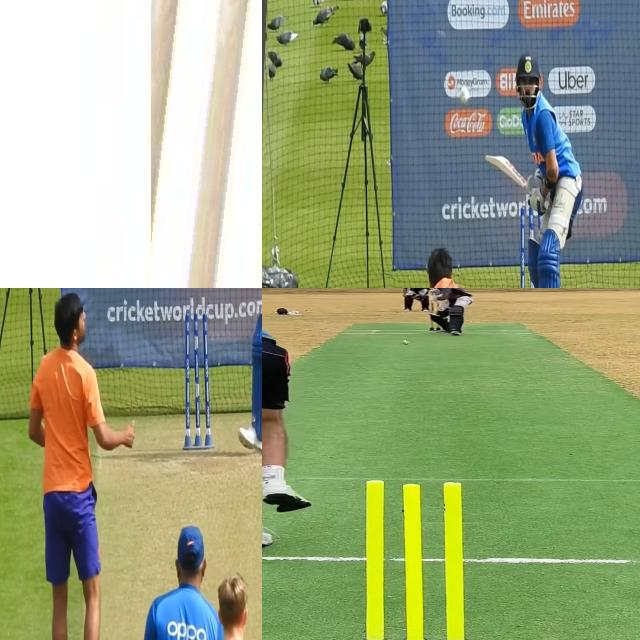Cricket ball: (460, 82, 472, 107), (400, 338, 411, 344)
Stumps: (151, 0, 262, 288), (346, 475, 486, 640), (183, 312, 213, 450), (518, 202, 545, 288)
